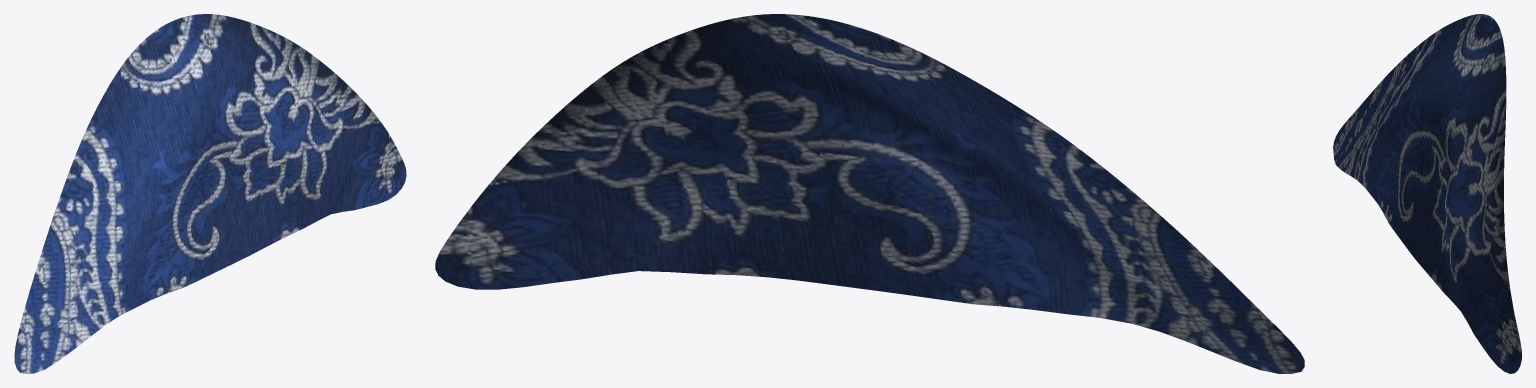
The model's file is pocket_square.glb.
3 views of the same model, side by side, from view 1: azimuth 30°, elevation 25°; view 2: azimuth 150°, elevation 25°; view 3: azimuth 270°, elevation 25° (orthographic). The views are drawn at different scales.
Visible parts, largest first — view 1: pocket square regular; view 2: pocket square regular; view 3: pocket square regular.
Boxes of the visible parts, x1,y1,x2,y2 form: pocket square regular: (14, 14, 406, 373); pocket square regular: (435, 14, 1304, 373); pocket square regular: (1333, 14, 1521, 373).
Bounding box in the file's own units: 7 × 3.33 × 2.34.
1 material, 1 textured.
